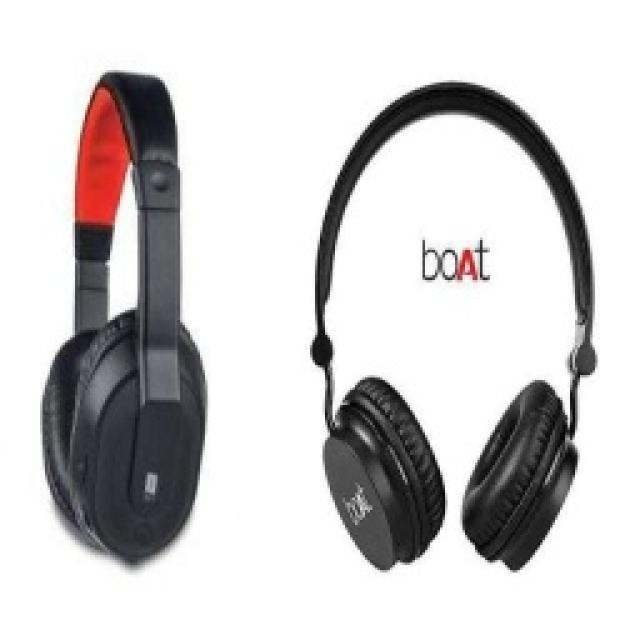headphones: (308, 78, 598, 572), (40, 67, 208, 565)
